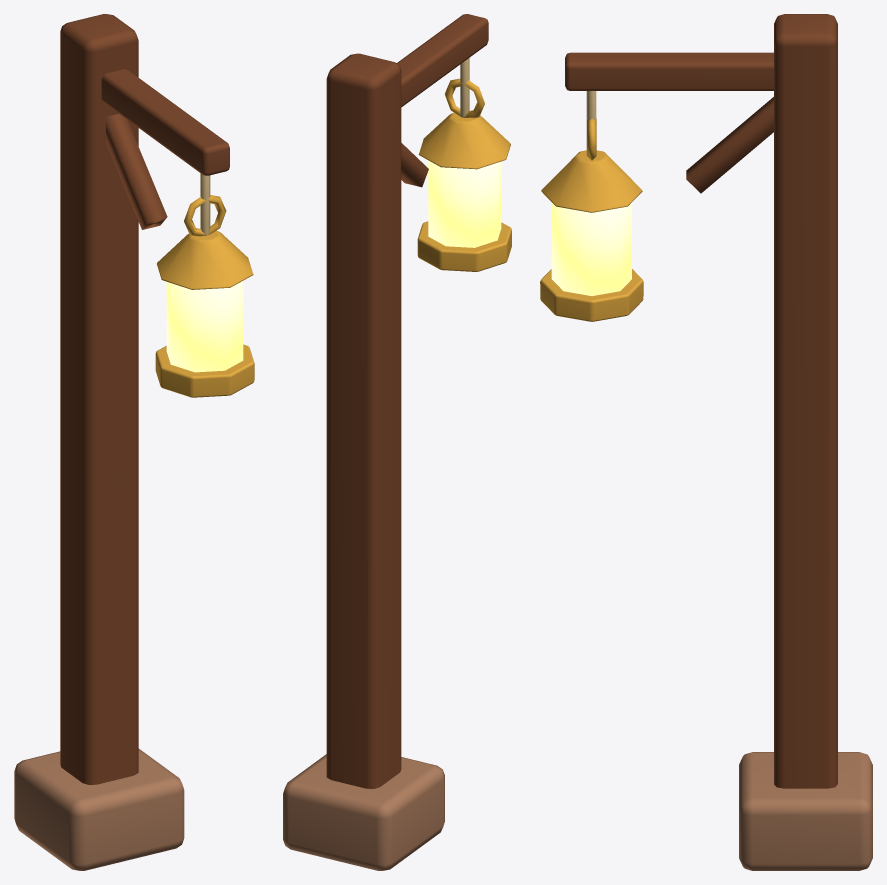
File: cove_lamp.glb
3 views of the same model, side by side, from view 1: azimuth 30°, elevation 25°; view 2: azimuth 150°, elevation 25°; view 3: azimuth 270°, elevation 25° (orthographic). The views are drawn at different scales.
Parts seen in each view (by area): view 1: Lamp; view 2: Lamp; view 3: Lamp.
Boxes of the visible parts, x1,y1,x2,y2 form: Lamp: (14,14,254,870); Lamp: (283,14,511,870); Lamp: (540,14,872,870).
Size of the model in its own units: 0.5 by 3.4 by 1.24.
